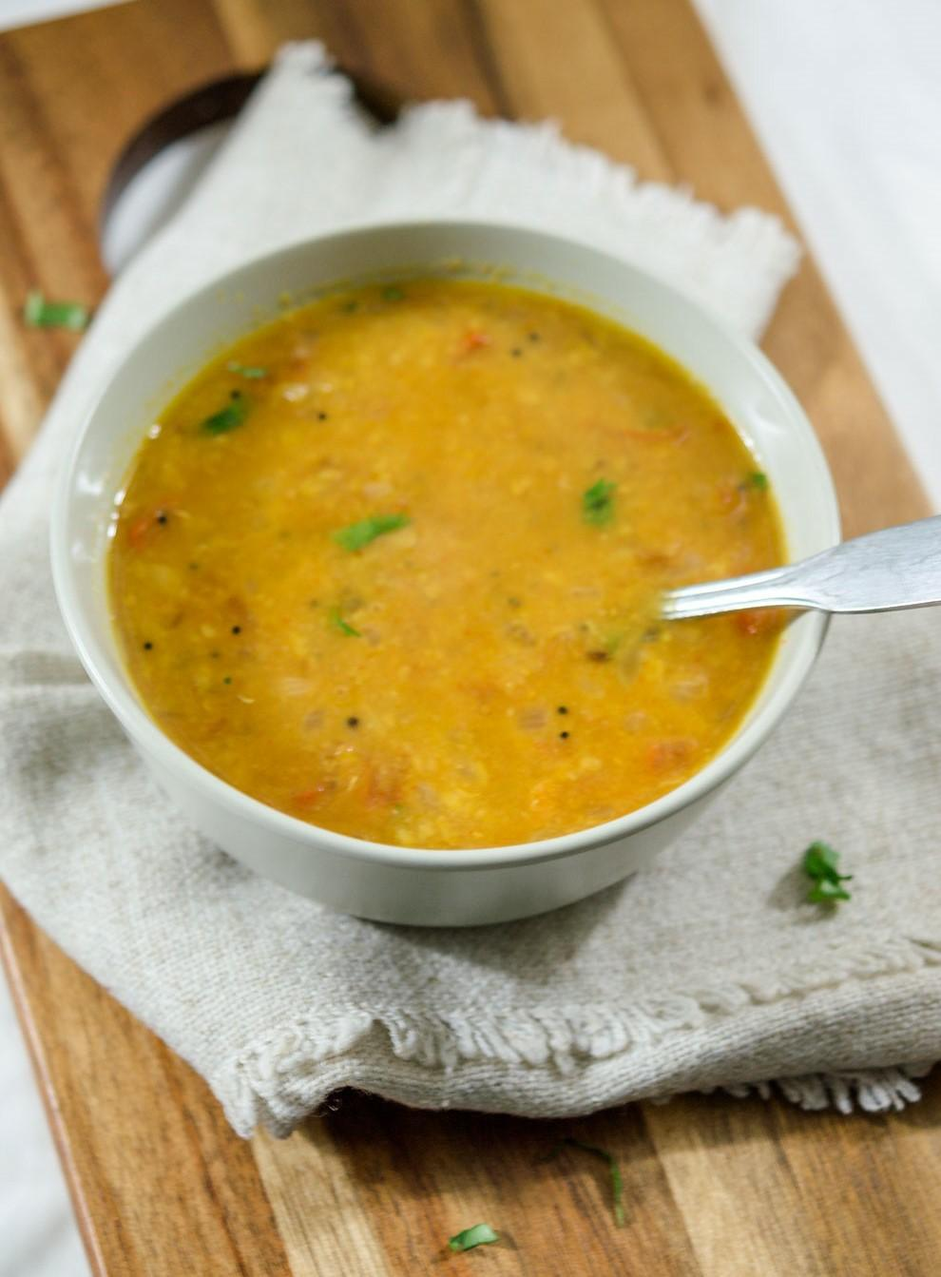Dal: (110, 267, 797, 844)
